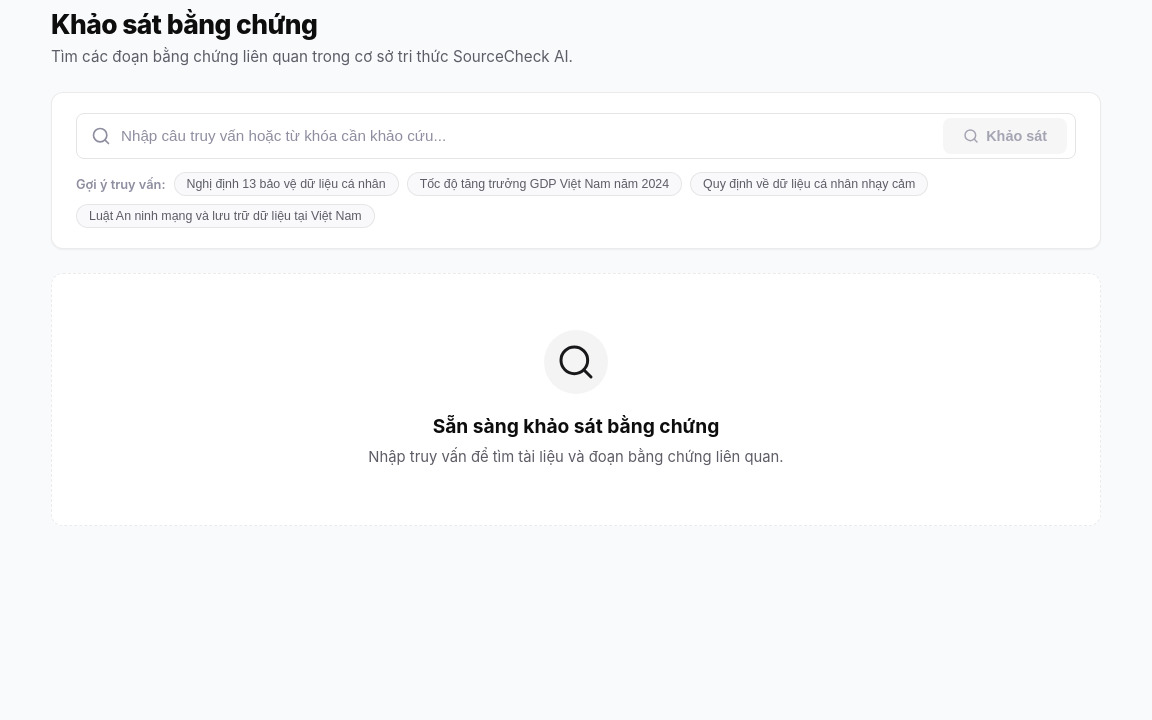
it: Search & Retrieval Explorer Feature (FE-04.6B) › 2. Query Execution & Results Rendering › renders zero-results state when retrieval returns 0 hits
Type "Truy vấn không có dữ liệu" into the field with test id "search-query-input" at {"x": 532, "y": 136}, box [121, 120, 943, 152]
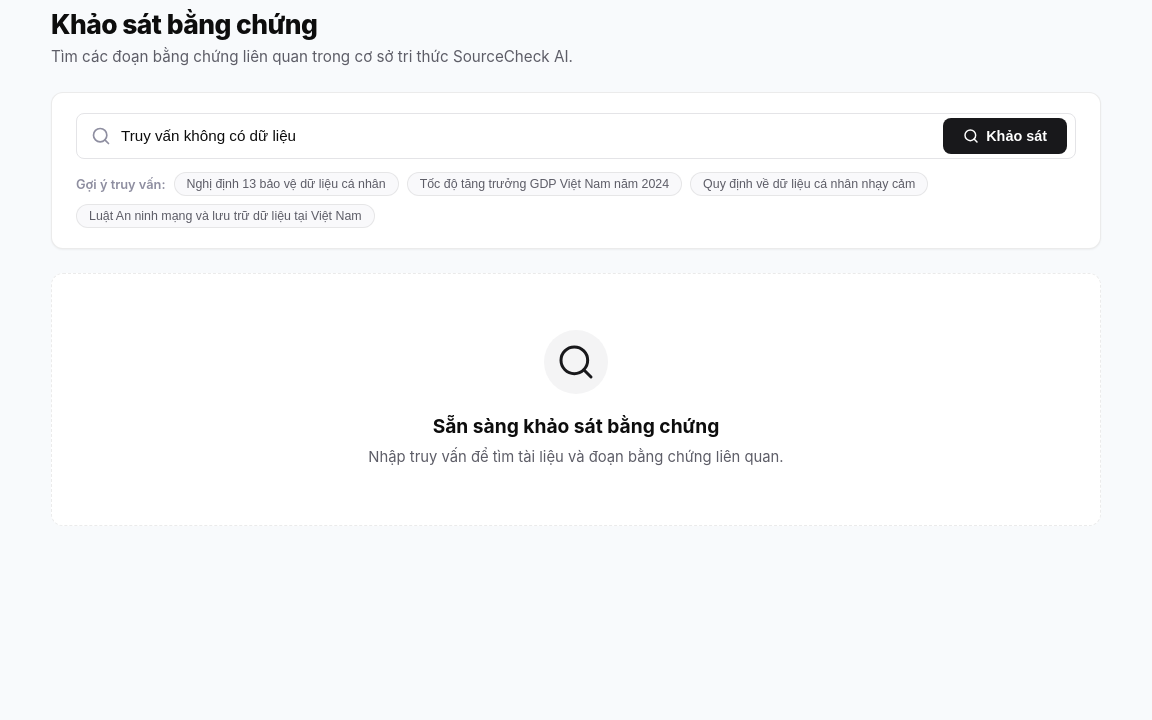
Click the button with test id "btn-execute-search" at {"x": 1005, "y": 136}, box [943, 118, 1067, 154]
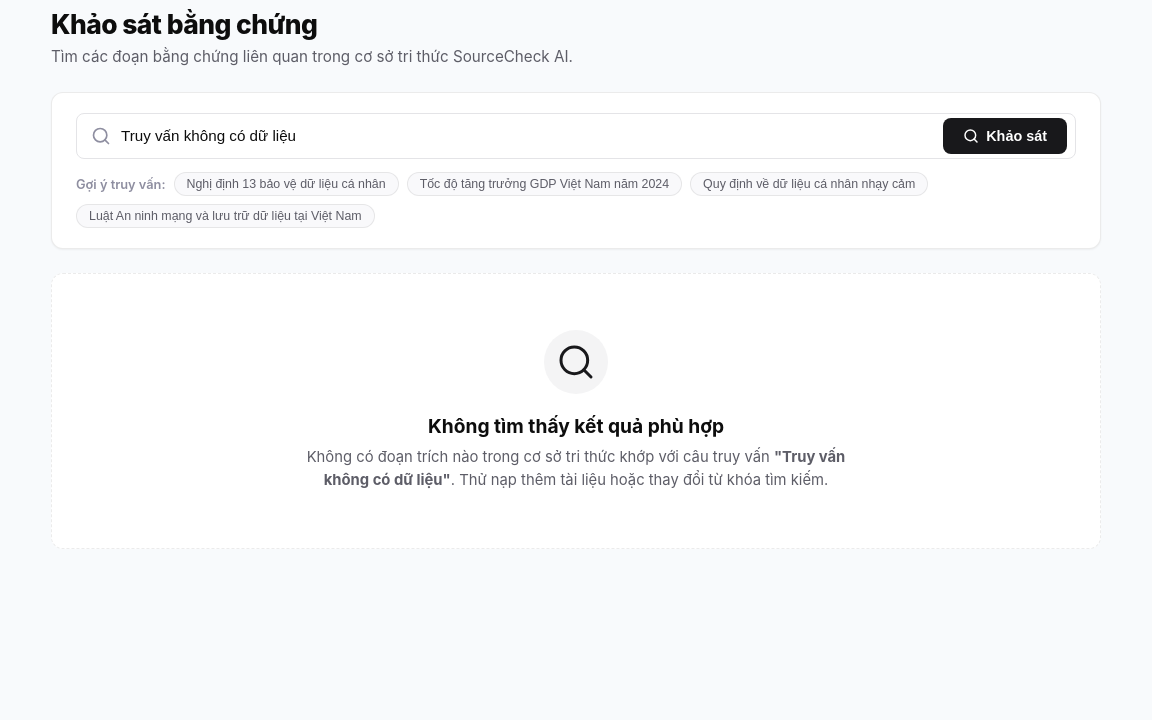
Check: the element with test id "search-zero-results-state" is shown, box [51, 273, 1101, 549]
Check: the heading "Không tìm thấy kết quả phù hợp" is shown, box [428, 414, 724, 438]
